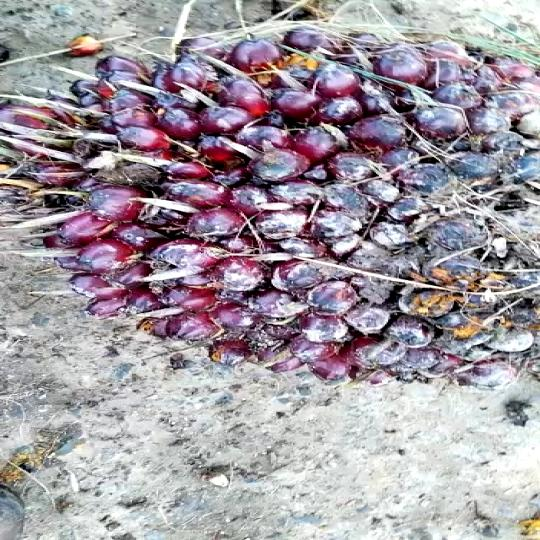kurang masak: (7, 38, 540, 395)
